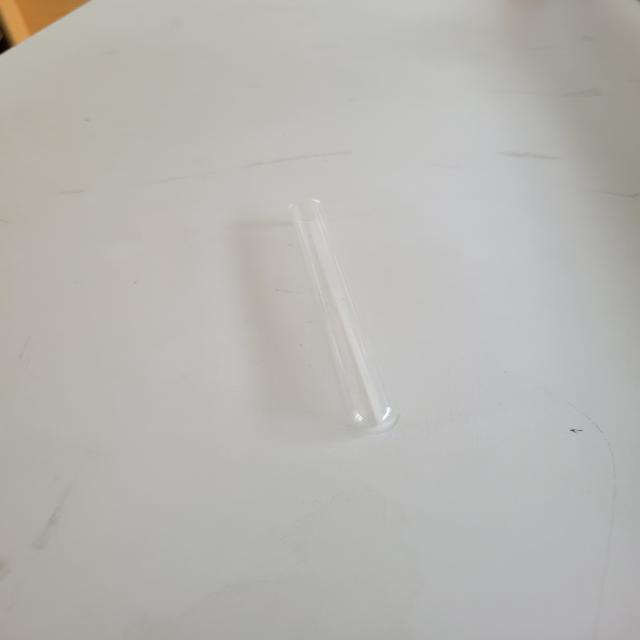Test_Tube: (271, 159, 414, 466)
